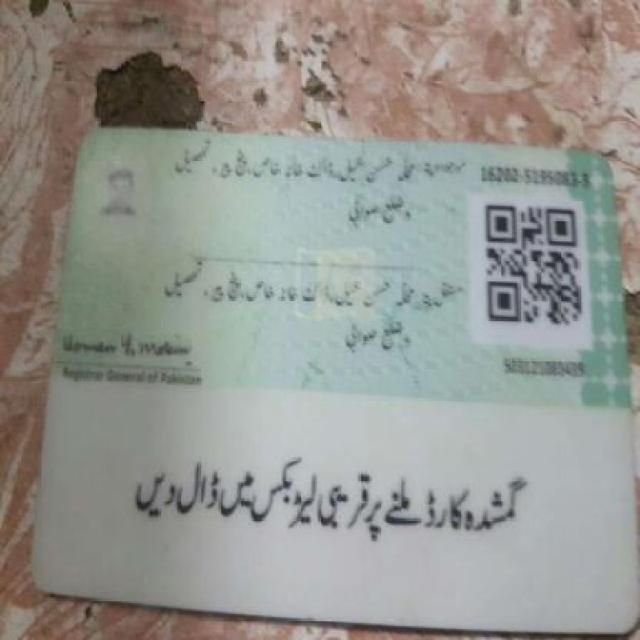Back: (45, 128, 632, 629)
